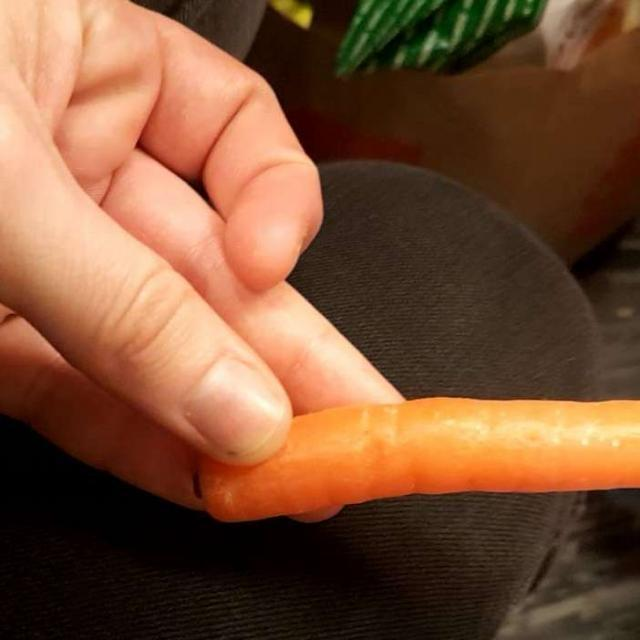carrot: (208, 402, 635, 509)
